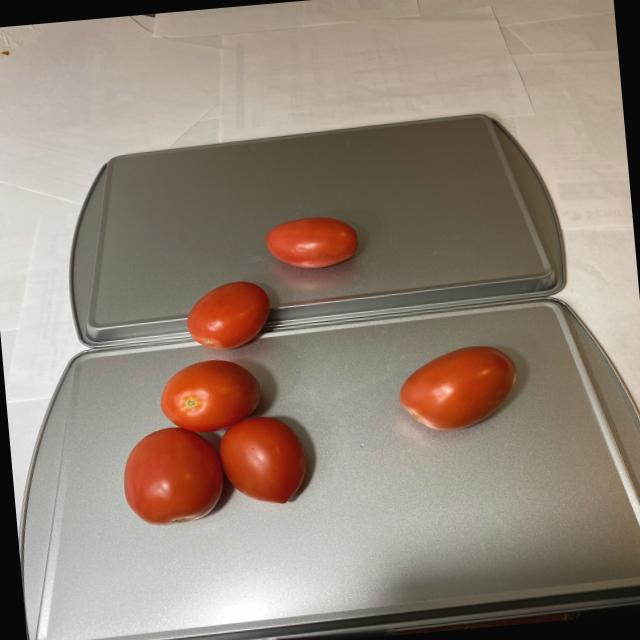tomato: (115, 349, 316, 534), (177, 210, 370, 356), (396, 339, 530, 436)
